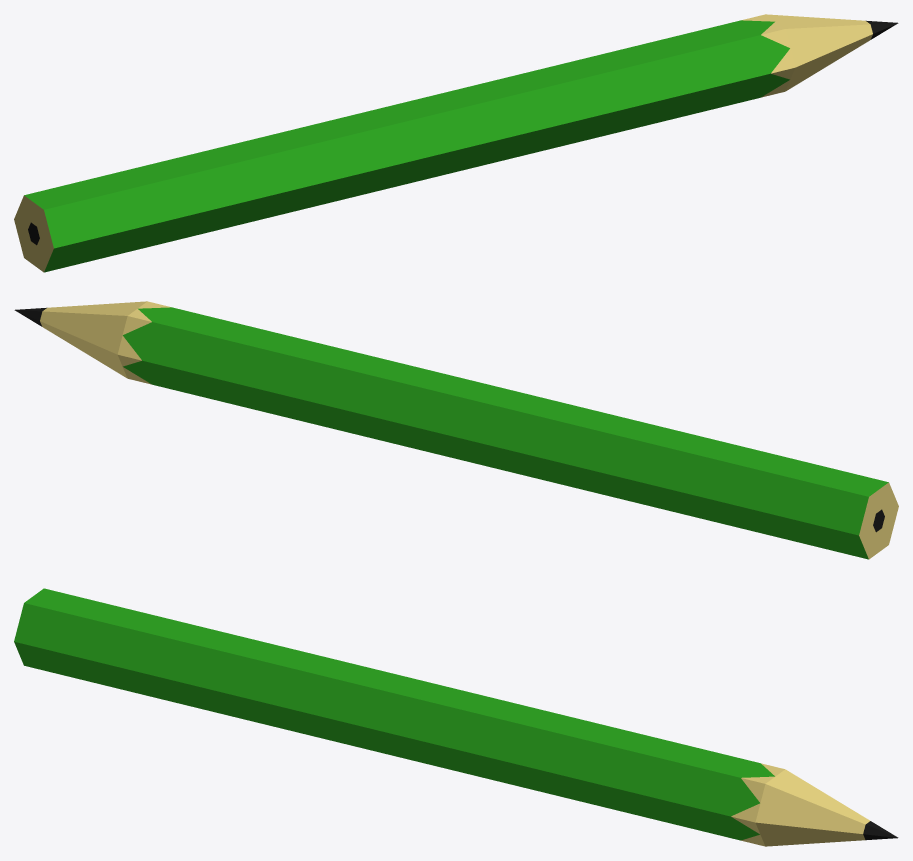
File: pencil.glb
3 renders of one model, top to bottom at view 1: azimuth 30°, elevation 25°; view 2: azimuth 150°, elevation 25°; view 3: azimuth 330°, elevation 25°, orthographic.
Visible parts, largest first — view 1: Cylinder; view 2: Cylinder; view 3: Cylinder.
Part boxes in pixels (x1,y1,x2,y2): Cylinder: (14, 14, 898, 272); Cylinder: (14, 301, 898, 559); Cylinder: (14, 588, 898, 846).
Bounding box in the file's own units: 0.175 × 0.0121 × 0.014.
